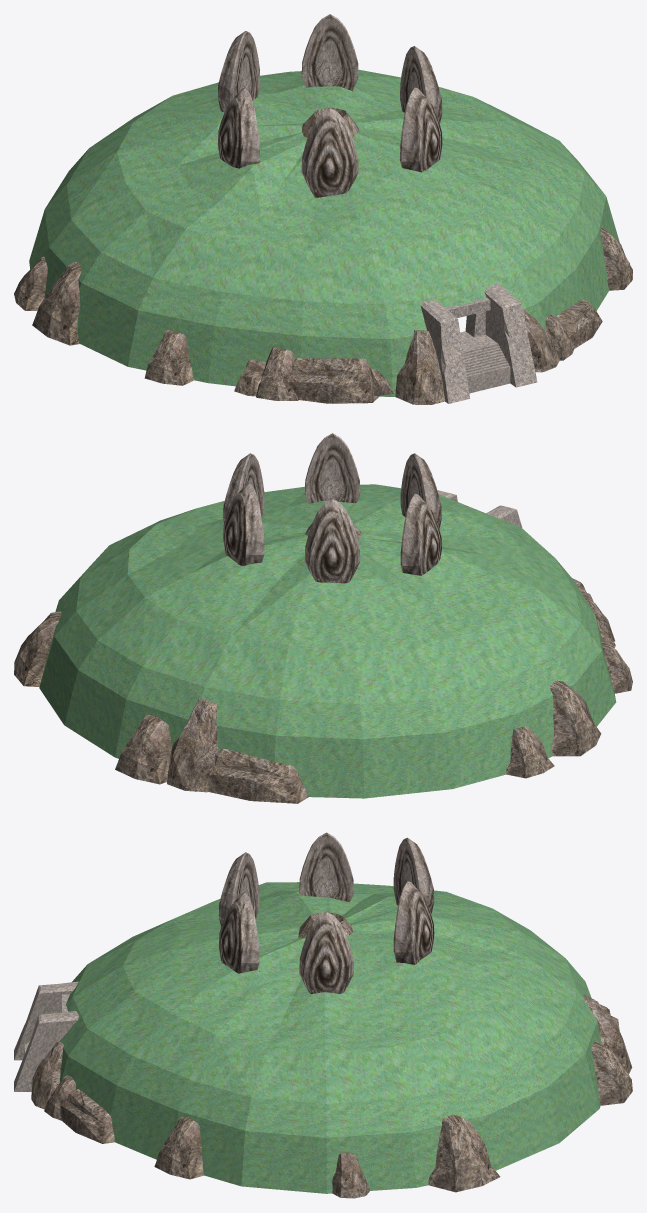
File: thm_dath_mtn_clan_stronghold_r0_mesh_r0_l0.fbx
3 renders of one model, top to bottom at view 1: azimuth 30°, elevation 25°; view 2: azimuth 150°, elevation 25°; view 3: azimuth 270°, elevation 25°, orthographic. The views are drawn at different scales.
Visible parts, largest first — view 1: mesh_node; view 2: mesh_node; view 3: mesh_node.
Part boxes in pixels (x1,y1,x2,y2): mesh_node: [14, 14, 632, 404]; mesh_node: [14, 433, 632, 803]; mesh_node: [14, 832, 632, 1198].
Bounding box in the file's own units: 73.97 × 28.77 × 75.29.
